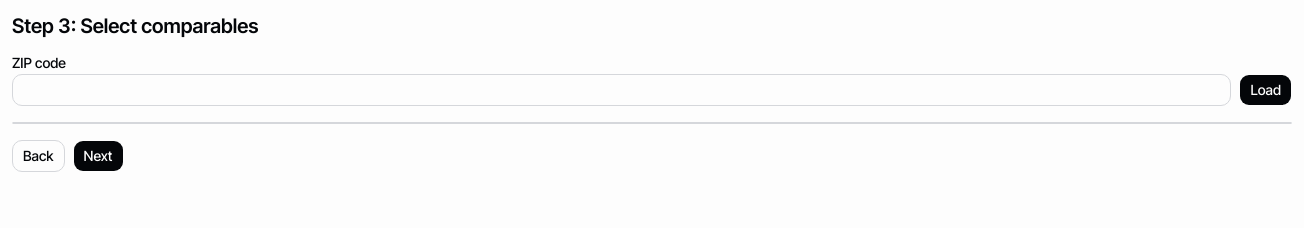
it: StepComps › blocks Next with fewer than 3 comps selected
Click the button "Next": [98, 156] box [73,140,124,172]
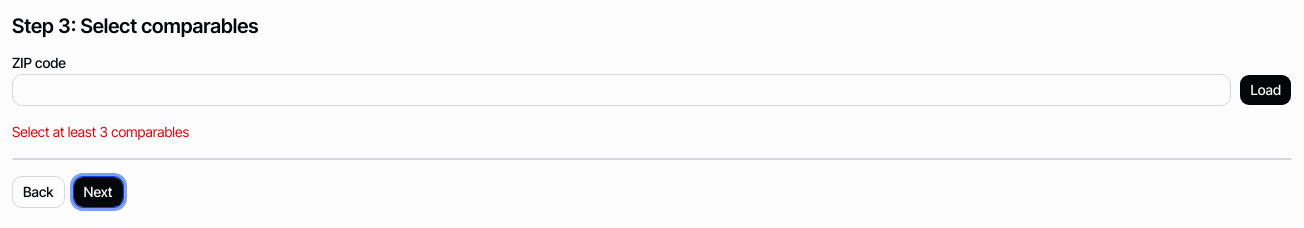
Check: the text "Select at least 3 comparables" is shown, box [12,123,189,140]
